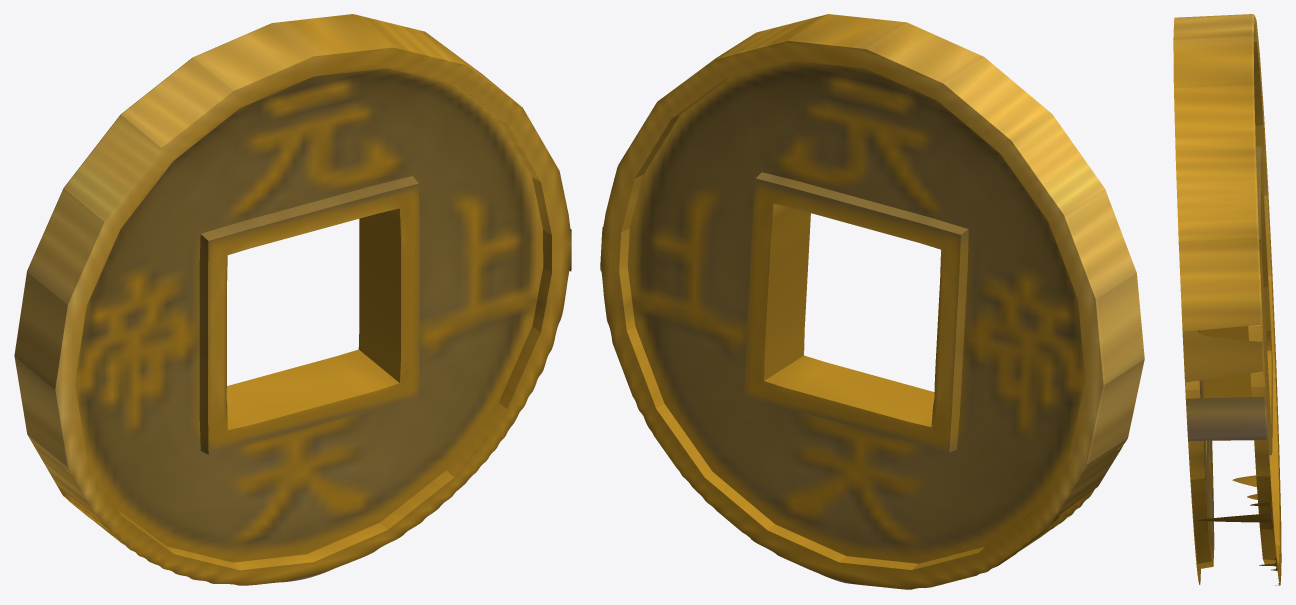
Rendered from coin model.fbx.
3 renders of one model, left to right at view 1: azimuth 30°, elevation 25°; view 2: azimuth 150°, elevation 25°; view 3: azimuth 270°, elevation 25°, orthographic. The views are drawn at different scales.
Parts seen in each view (by area): view 1: polySurface34; view 2: polySurface34; view 3: polySurface34.
Part boxes in pixels (x1,y1,x2,y2): polySurface34: (14,14,571,585); polySurface34: (600,14,1144,589); polySurface34: (1173,14,1281,585).
Size of the model in its own units: 45.32 by 45.56 by 8.51.
